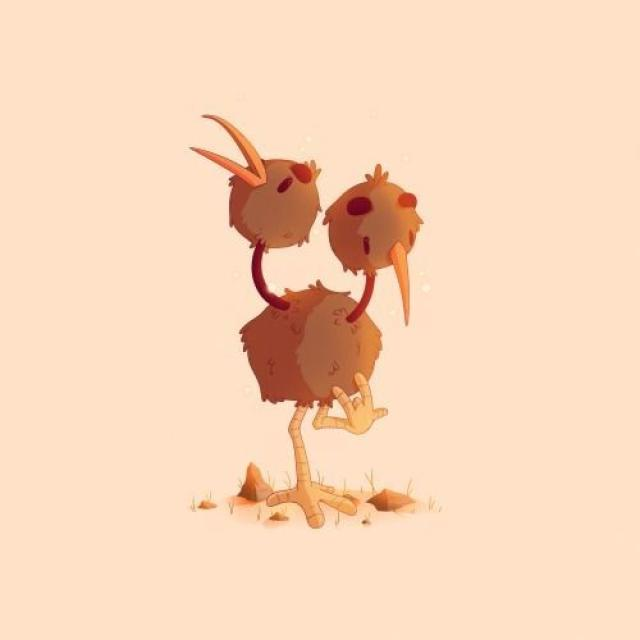Doduo: (171, 103, 432, 540)
